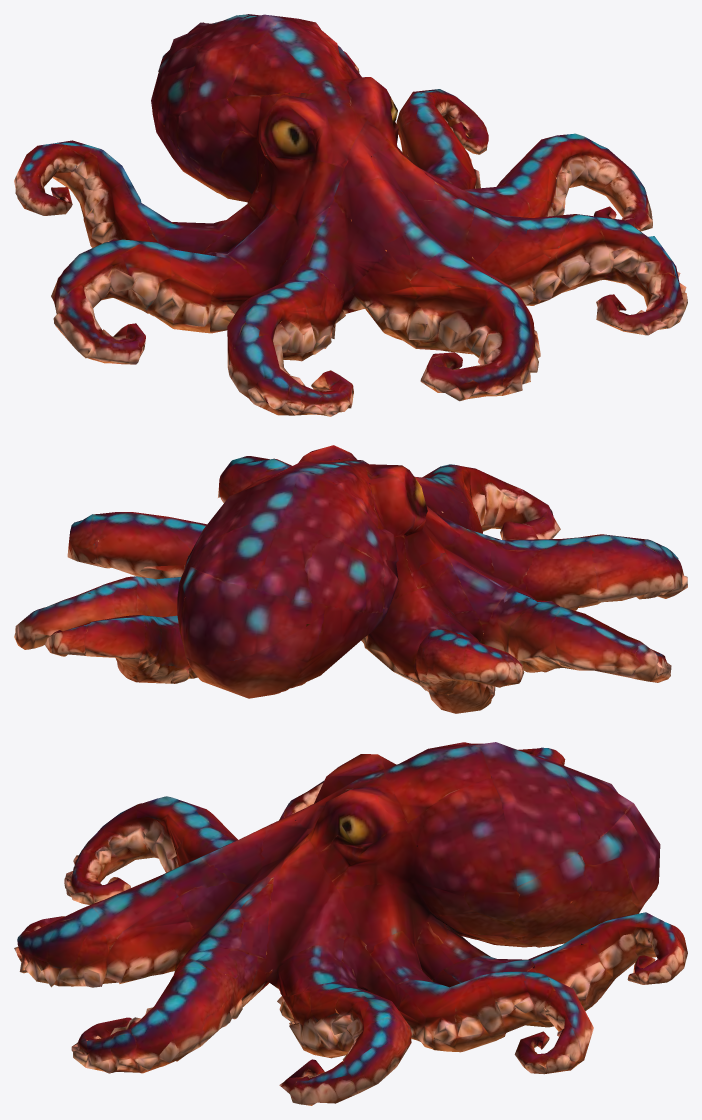
Rendered from octopus.glb.
3 renders of one model, top to bottom at view 1: azimuth 30°, elevation 25°; view 2: azimuth 150°, elevation 25°; view 3: azimuth 270°, elevation 25°, orthographic. The views are drawn at different scales.
Parts seen in each view (by area): view 1: octopus; view 2: octopus; view 3: octopus.
Part boxes in pixels (x1=…): octopus: x1=14, y1=14, x2=687, y2=416; octopus: x1=14, y1=445, x2=687, y2=713; octopus: x1=14, y1=742, x2=687, y2=1105.
Bounding box in the file's own units: 2.5 × 0.8638 × 2.41.
Materials: 1 (1 with a texture image).
